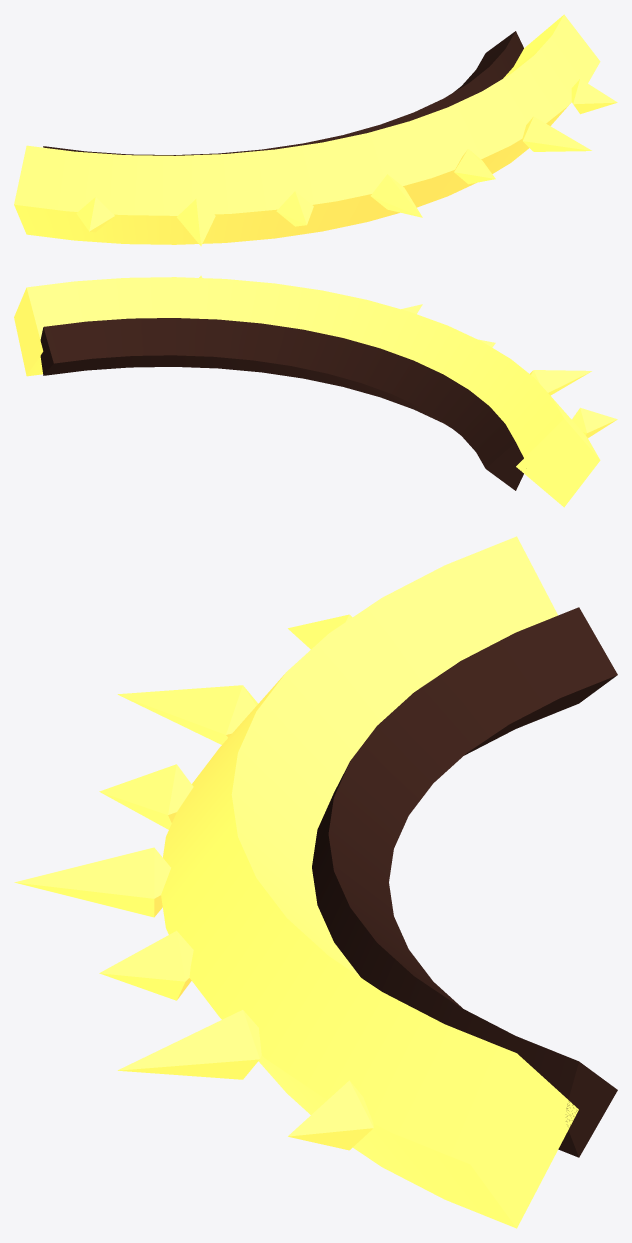
File: shock.glb
3 views of the same model, one above another, from view 1: azimuth 30°, elevation 25°; view 2: azimuth 150°, elevation 25°; view 3: azimuth 270°, elevation 25° (orthographic). The views are drawn at different scales.
Parts seen in each view (by area): view 1: Projectile; view 2: Projectile; view 3: Projectile.
Part boxes in pixels (x1,y1,x2,y2): Projectile: (14, 14, 617, 246); Projectile: (14, 275, 617, 507); Projectile: (14, 536, 617, 1228).
Bounding box in the file's own units: 0.5516 × 0.08 × 0.2497.
